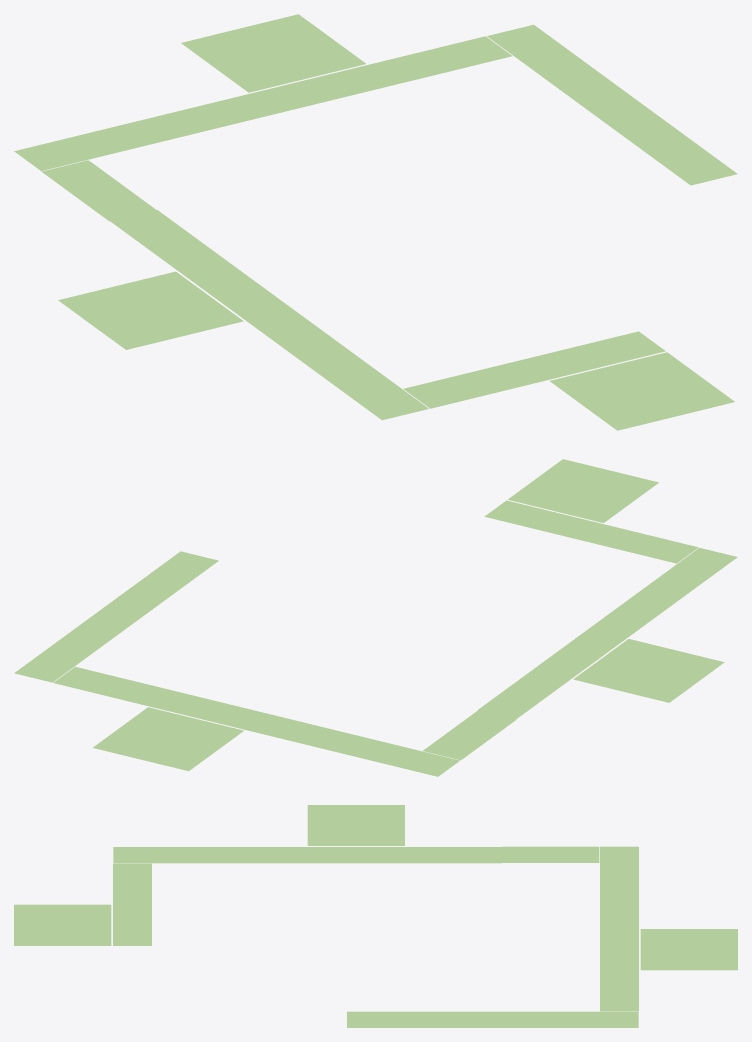
File: Level1_Ground.glb
The picture shows the model from 3 angles, top to bottom: view 1: azimuth 30°, elevation 25°; view 2: azimuth 150°, elevation 25°; view 3: azimuth 270°, elevation 25°; orthographic projection. The views are drawn at different scales.
Visible parts, largest first — view 1: Floor; view 2: Floor; view 3: Floor.
Boxes of the visible parts, x1,y1,x2,y2 form: Floor: (14, 14, 737, 430); Floor: (14, 459, 737, 776); Floor: (14, 805, 737, 1027).
Bounding box in the file's own units: 66.18 × 0.0013 × 90.82.
